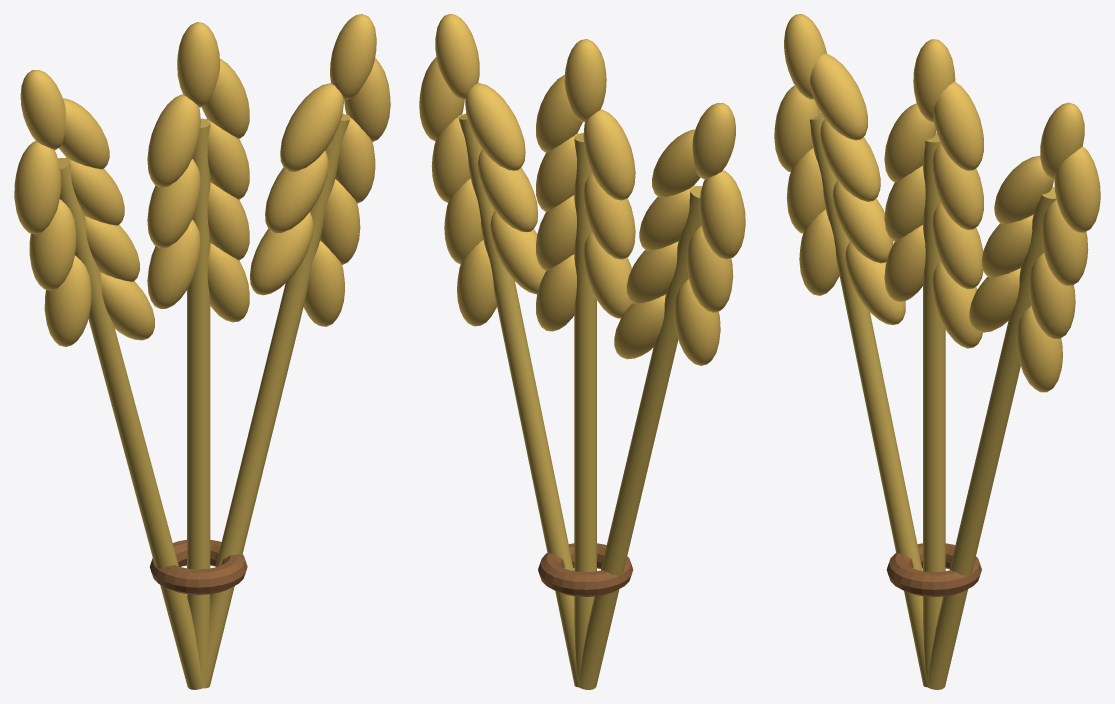
Rendered from Bakery_L1.fbx.
3 renders of one model, left to right at view 1: azimuth 30°, elevation 25°; view 2: azimuth 150°, elevation 25°; view 3: azimuth 330°, elevation 25°, orthographic. The views are drawn at different scales.
Parts seen in each view (by area): view 1: B1_Grain (×21), B1_Stalk (×3), B1_GrainTop (×3), B1_Tie; view 2: B1_Grain (×21), B1_Stalk (×3), B1_GrainTop (×3), B1_Tie; view 3: B1_Grain (×21), B1_Stalk (×3), B1_GrainTop (×3), B1_Tie.
Boxes of the visible parts, bbox=[...] form: B1_Grain (×21): bbox=[14, 57, 390, 346]; B1_Stalk (×3): bbox=[58, 113, 349, 689]; B1_GrainTop (×3): bbox=[20, 14, 376, 150]; B1_Tie: bbox=[150, 539, 247, 594]; B1_Grain (×21): bbox=[419, 57, 745, 365]; B1_Stalk (×3): bbox=[458, 113, 702, 689]; B1_GrainTop (×3): bbox=[435, 14, 735, 179]; B1_Tie: bbox=[538, 543, 633, 596]; B1_Grain (×21): bbox=[774, 53, 1100, 392]; B1_Stalk (×3): bbox=[809, 112, 1056, 689]; B1_GrainTop (×3): bbox=[784, 14, 1084, 179]; B1_Tie: bbox=[886, 543, 981, 596].
Bounding box in the file's own units: 15.65 × 28.41 × 3.8.
